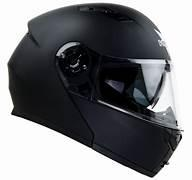Helmet: (8, 3, 182, 176)
